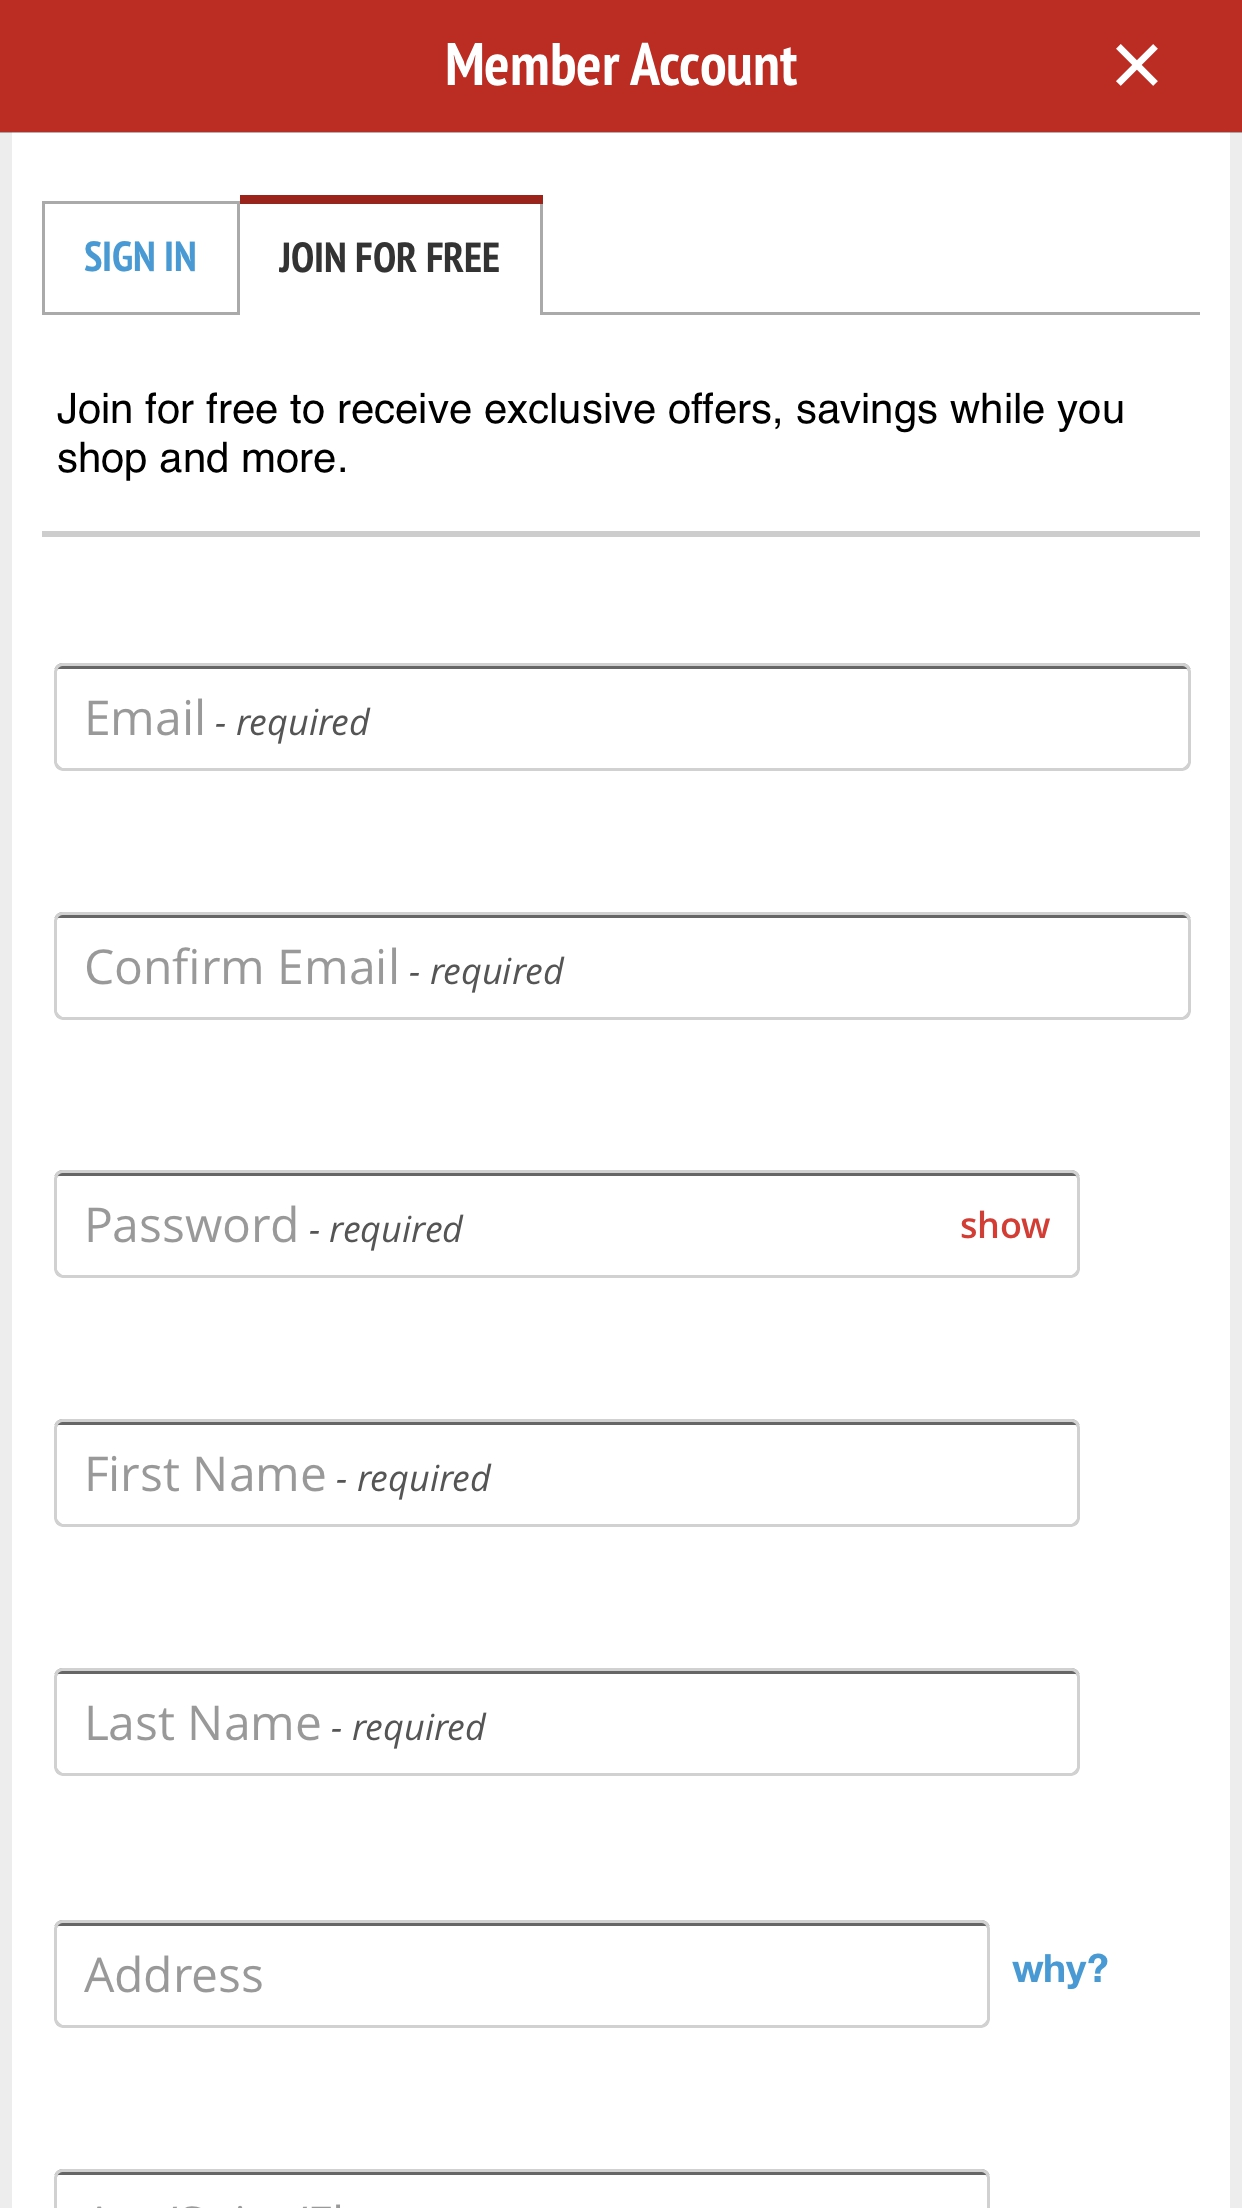EditText: (55, 911, 1192, 1021), (55, 663, 1192, 772), (55, 1668, 1081, 1777), (55, 1419, 1081, 1529), (55, 1171, 1081, 1278), (55, 1918, 990, 2028)
Icon: (1115, 44, 1159, 88)
Text: (58, 391, 1124, 482), (86, 948, 566, 995), (89, 1456, 491, 1501), (89, 1705, 488, 1750), (88, 1206, 466, 1253), (447, 42, 798, 88), (88, 698, 372, 745), (83, 1955, 264, 1996), (281, 243, 500, 274), (1011, 1953, 1109, 1990), (961, 1210, 1051, 1240)
TextButton: (42, 202, 241, 315)
